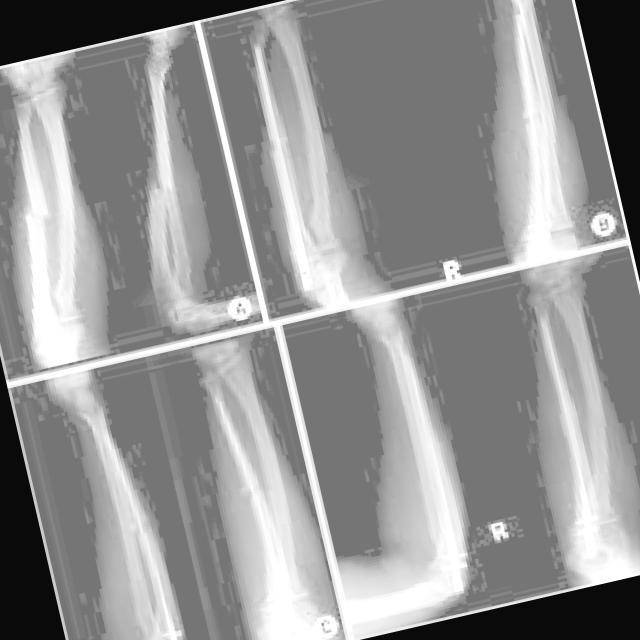Comminuted Fracture: (248, 122, 312, 174), (15, 189, 74, 243), (135, 161, 189, 215), (221, 470, 277, 520)
